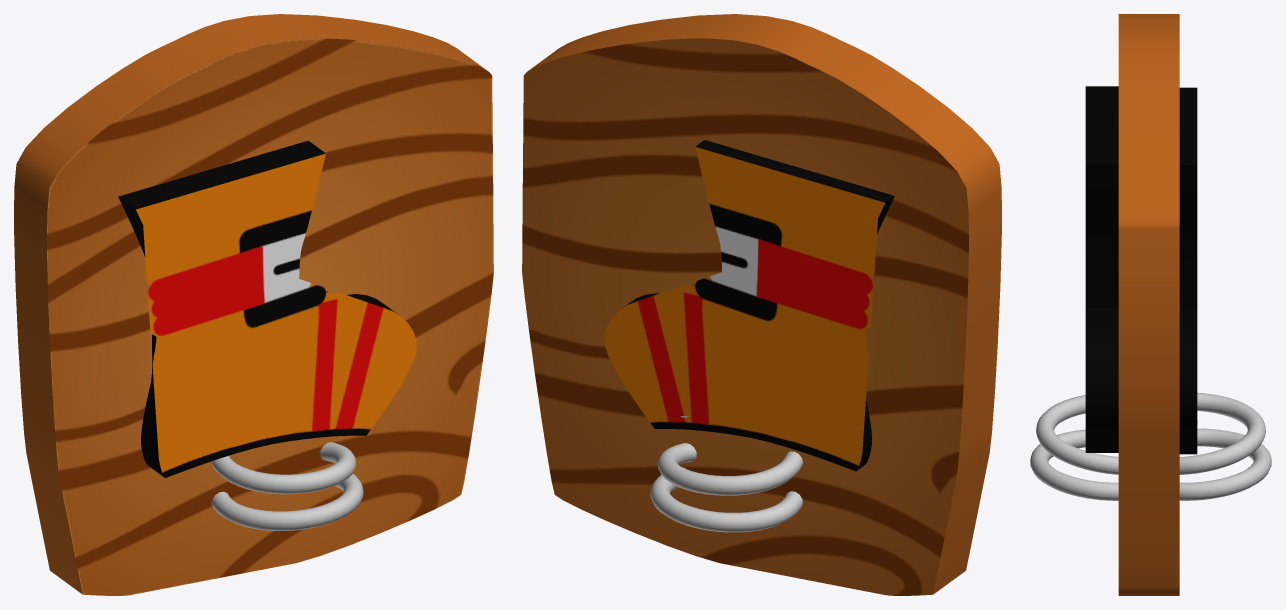
The model's file is Jump.FBX.
3 views of the same model, side by side, from view 1: azimuth 30°, elevation 25°; view 2: azimuth 150°, elevation 25°; view 3: azimuth 270°, elevation 25° (orthographic). The views are drawn at different scales.
Parts seen in each view (by area): view 1: BotaJumpPAnel, BotaJump, BotaJumpMuelle; view 2: BotaJumpPAnel, BotaJump1, BotaJumpMuelle; view 3: BotaJumpPAnel, BotaJump, BotaJumpMuelle (×2), BotaJump1.
Part boxes in pixels (x1,y1,x2,y2): BotaJumpPAnel: (14,14,493,595); BotaJump: (118,140,416,477); BotaJumpMuelle: (212,442,363,530); BotaJumpPAnel: (522,14,1001,595); BotaJump1: (604,140,894,471); BotaJumpMuelle: (650,416,802,532); BotaJumpPAnel: (1118,14,1179,595); BotaJump: (1085,86,1118,452); BotaJumpMuelle (×2): (1030,392,1271,500); BotaJump1: (1179,87,1197,454).
Size of the model in its own units: 46.9 by 52.93 by 23.68.
